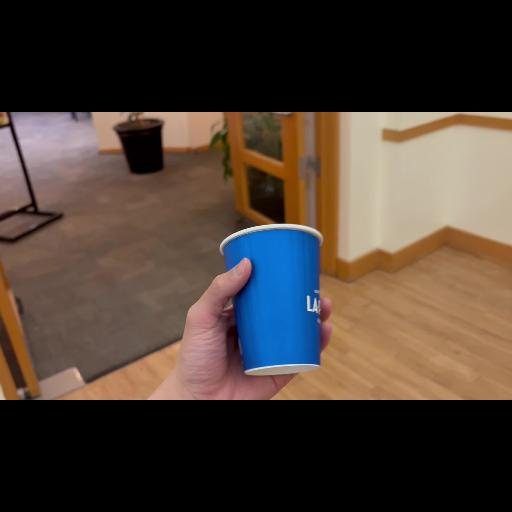lp_paper_cup: (212, 220, 336, 384)
